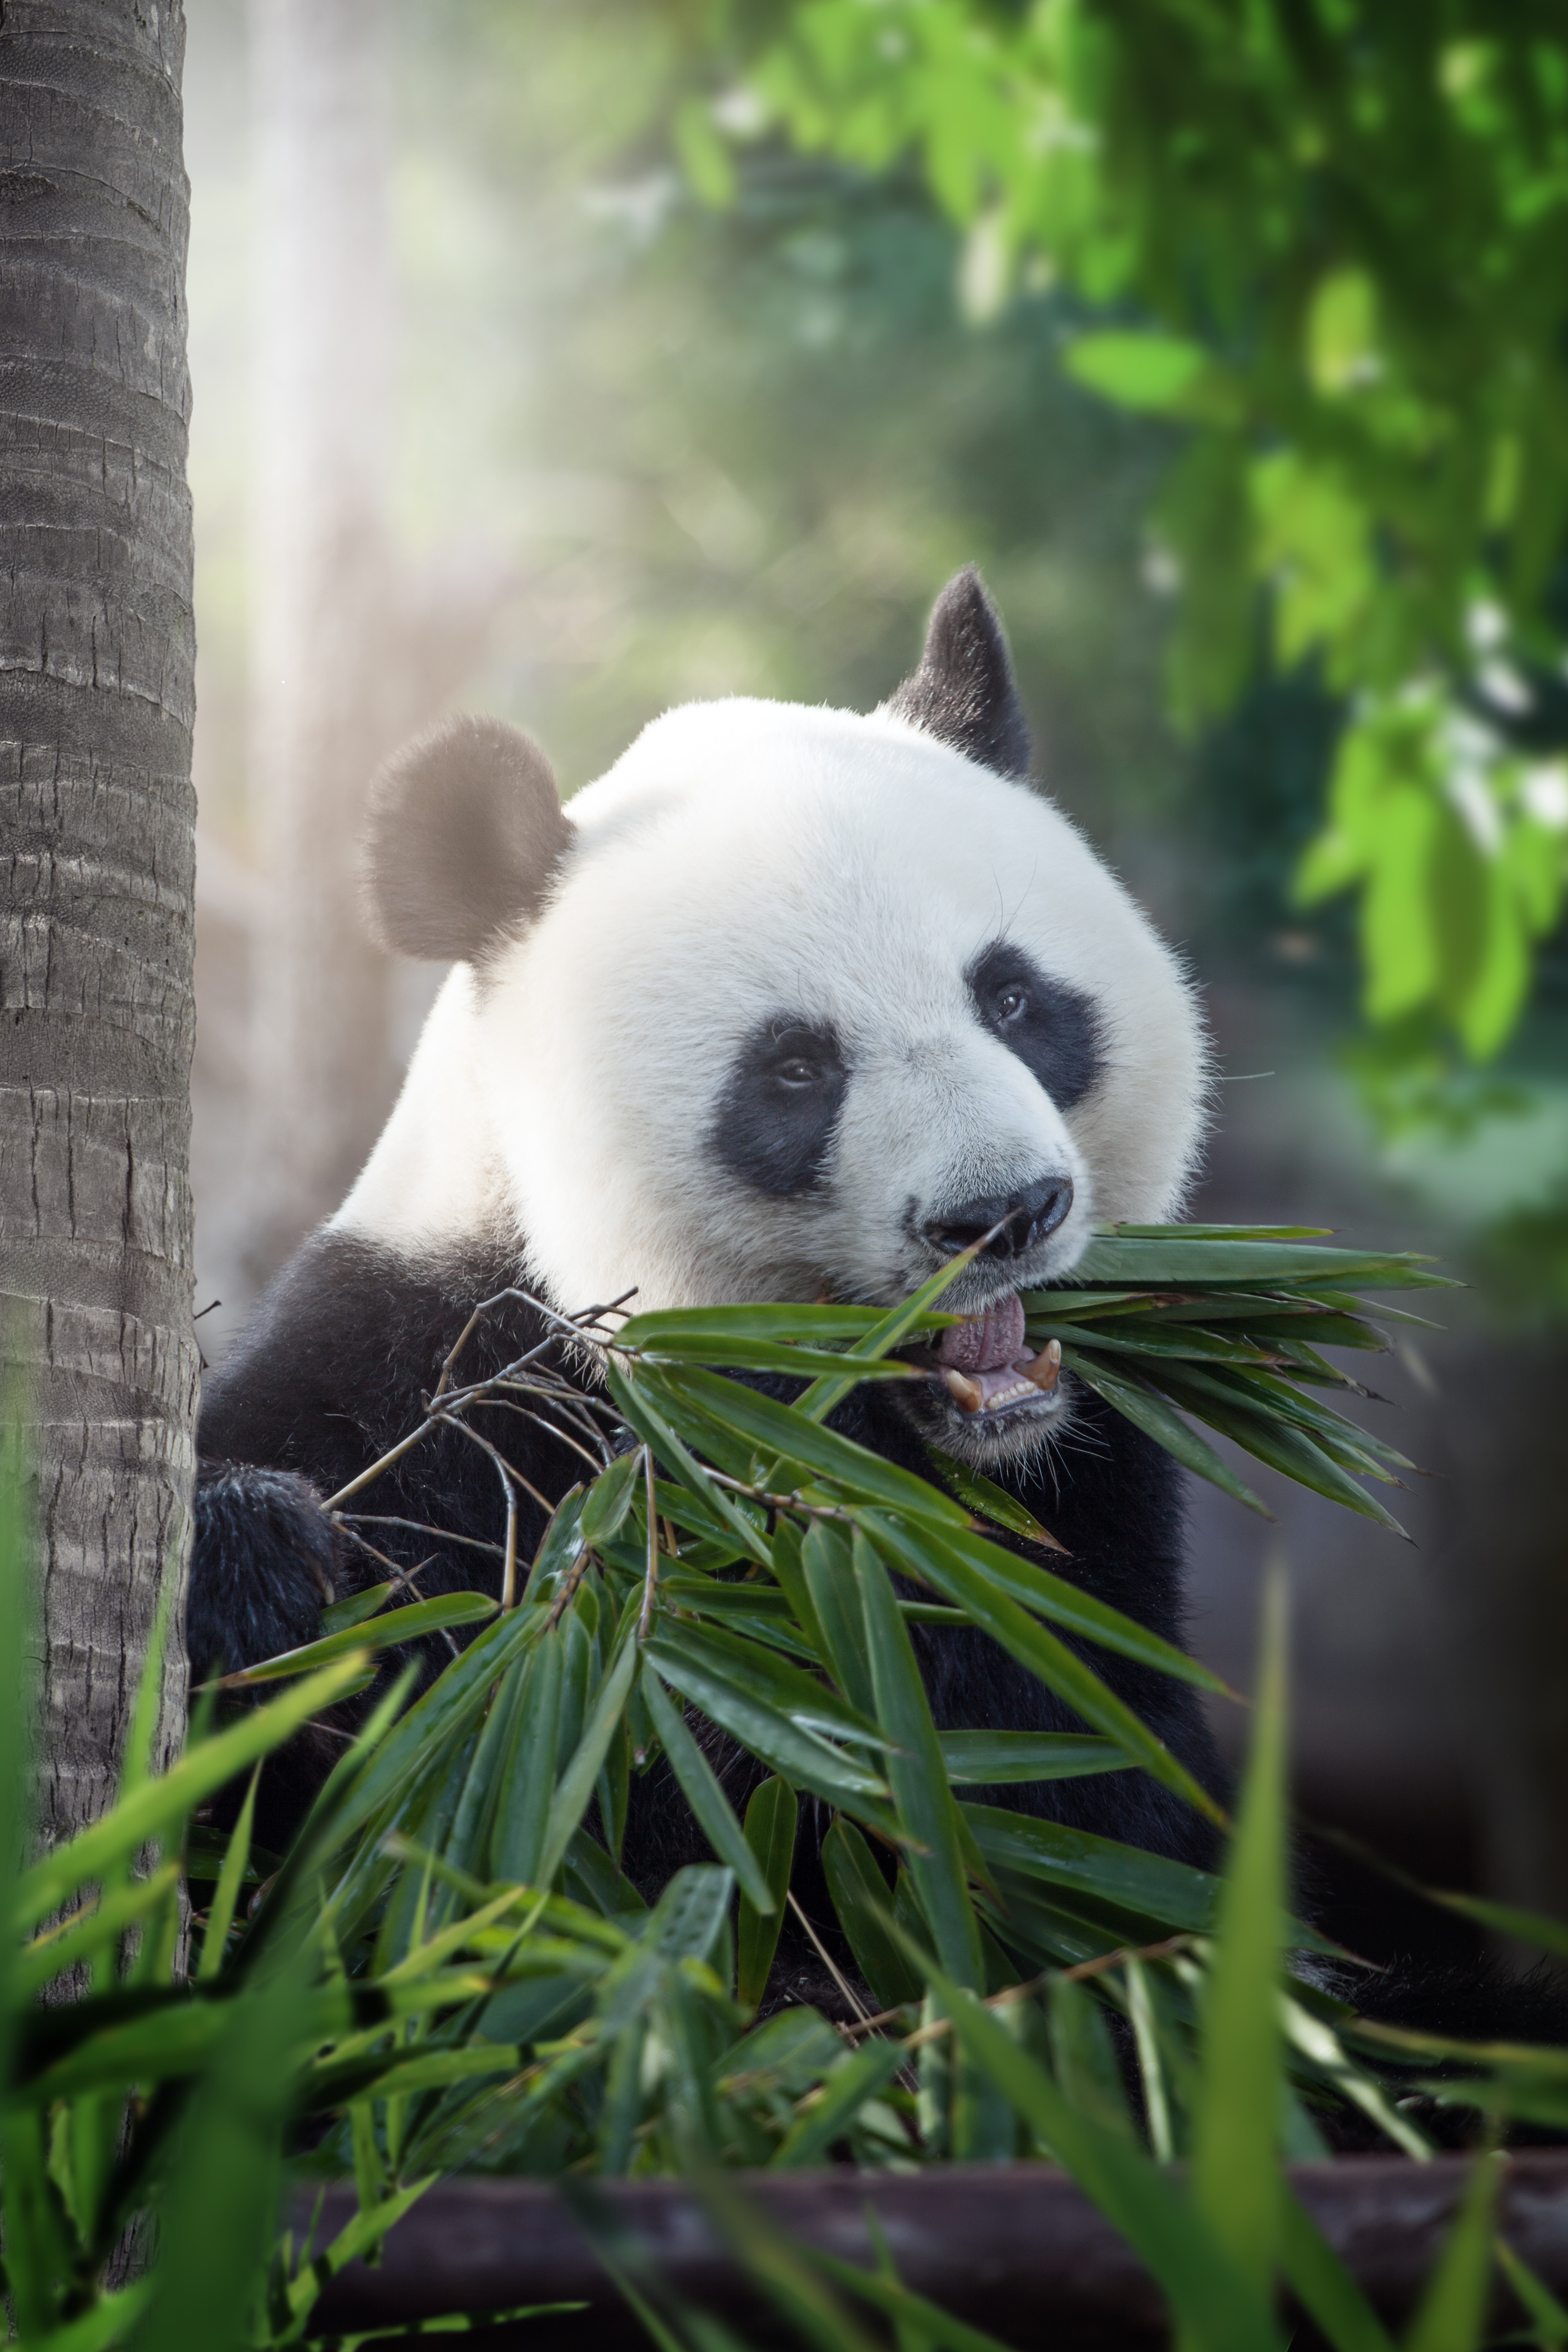panda: (168, 560, 1395, 2053)
